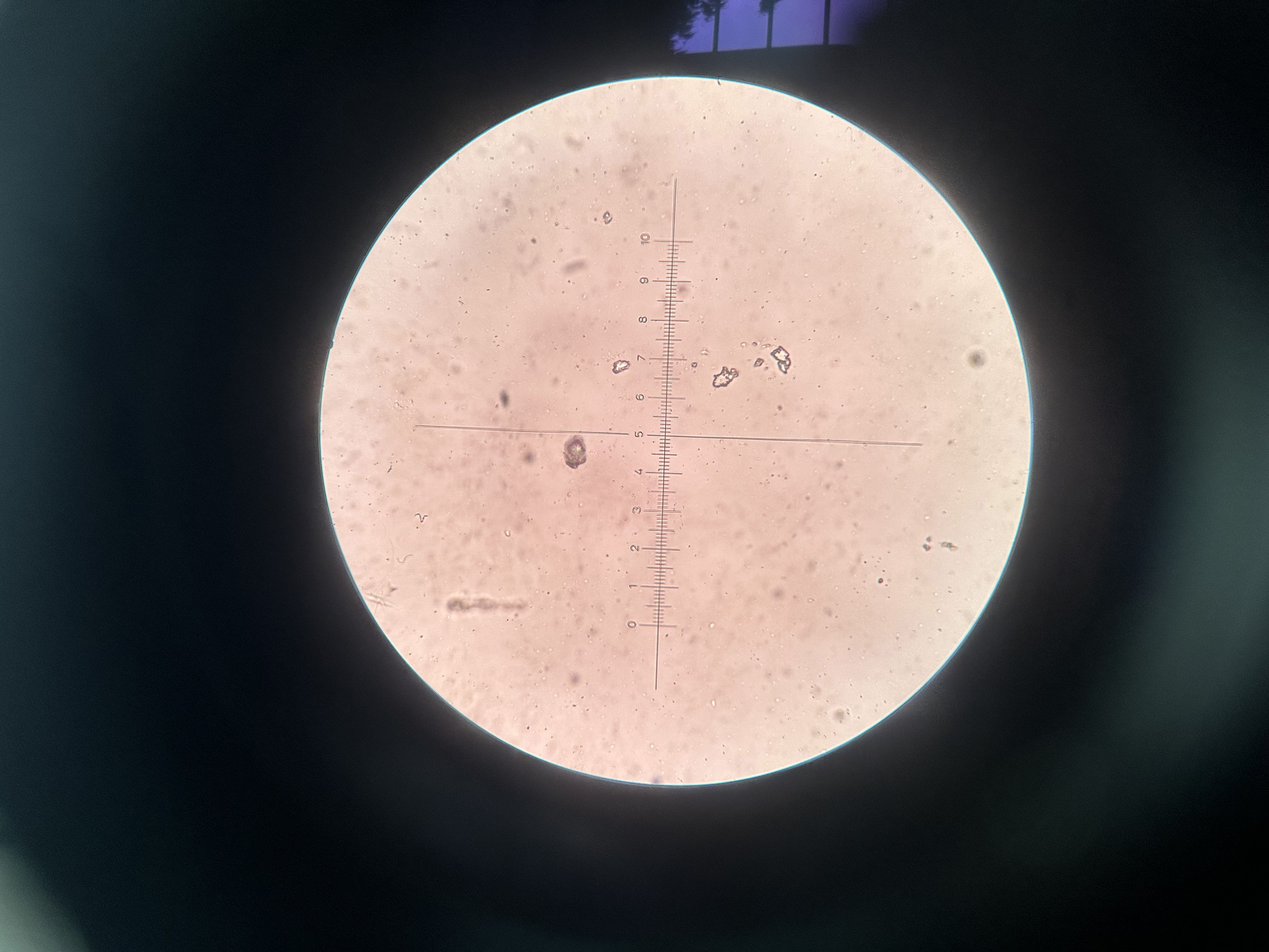not_microplastic: (437, 593, 535, 619), (560, 431, 593, 473), (707, 362, 741, 389), (767, 342, 793, 376), (495, 387, 514, 409), (970, 347, 989, 368), (568, 256, 587, 272), (614, 362, 631, 373), (753, 357, 767, 368), (601, 209, 609, 224)
